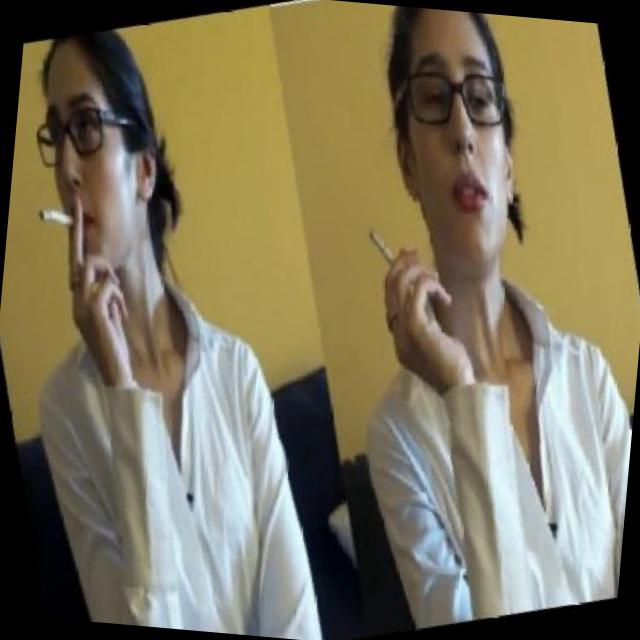cigarette: (361, 220, 402, 272), (36, 198, 78, 234)
